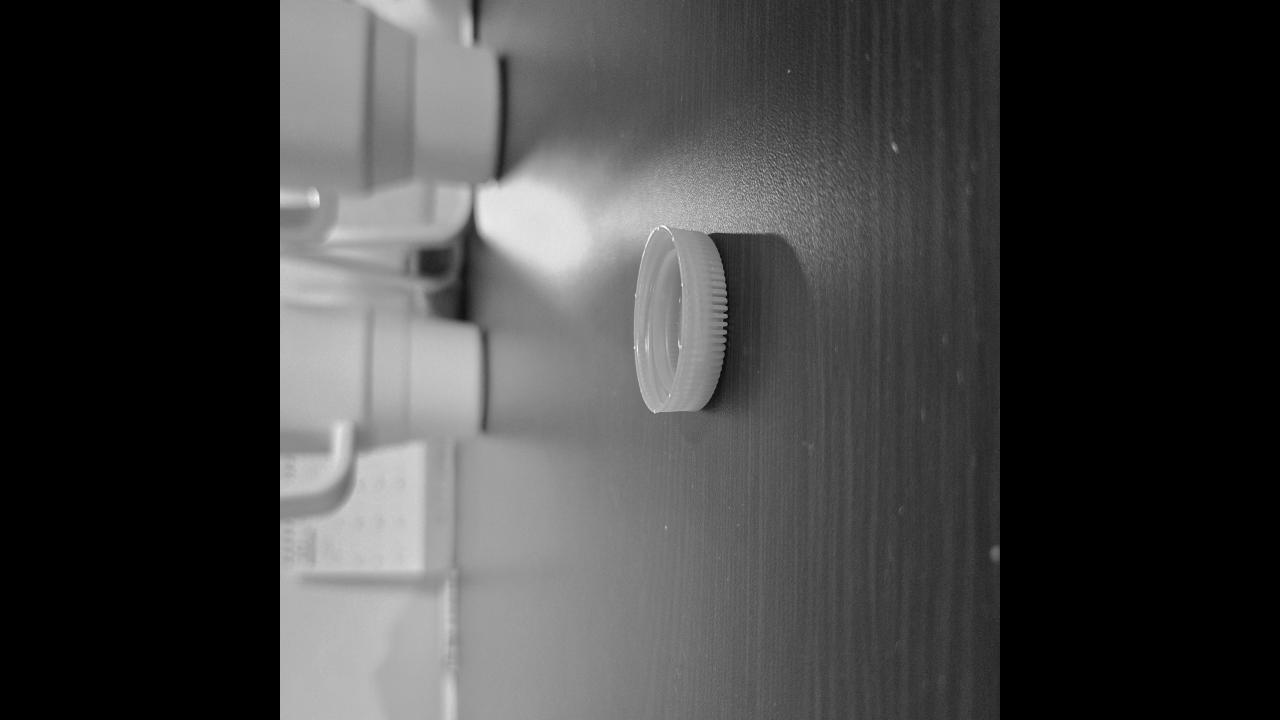bottle_cap: (630, 219, 729, 419)
